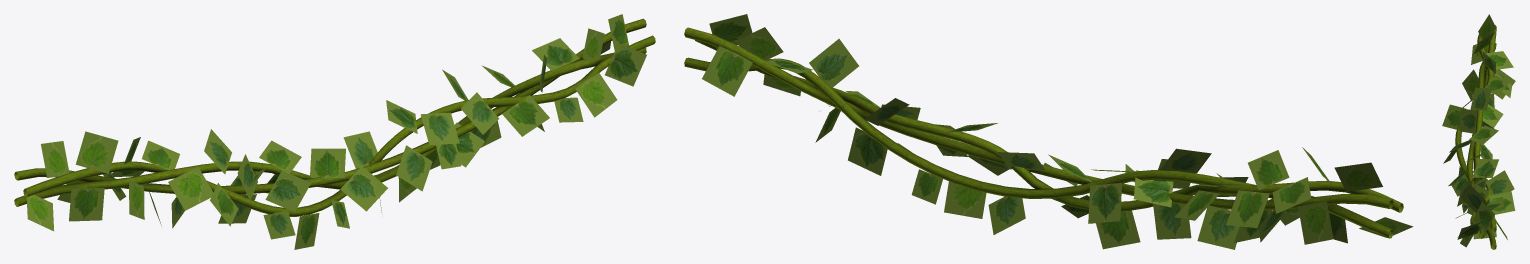
File: sb_obj_nature010_Jungles02a.fbx
The picture shows the model from 3 angles, left to right: view 1: azimuth 30°, elevation 25°; view 2: azimuth 150°, elevation 25°; view 3: azimuth 270°, elevation 25°; orthographic projection. The views are drawn at different scales.
Parts seen in each view (by area): view 1: leaf02a, sb_obj_nature010_Jungles02a; view 2: leaf02a, sb_obj_nature010_Jungles02a; view 3: leaf02a, sb_obj_nature010_Jungles02a.
Boxes of the visible parts, x1=… form: leaf02a: x1=26, y1=14, x2=646, y2=249; sb_obj_nature010_Jungles02a: x1=14, y1=18, x2=655, y2=216; leaf02a: x1=702, y1=14, x2=1413, y2=249; sb_obj_nature010_Jungles02a: x1=684, y1=27, x2=1403, y2=238; leaf02a: x1=1442, y1=14, x2=1515, y2=247; sb_obj_nature010_Jungles02a: x1=1455, y1=25, x2=1496, y2=249.
Size of the model in its own units: 4.03 by 0.9272 by 0.6144.
